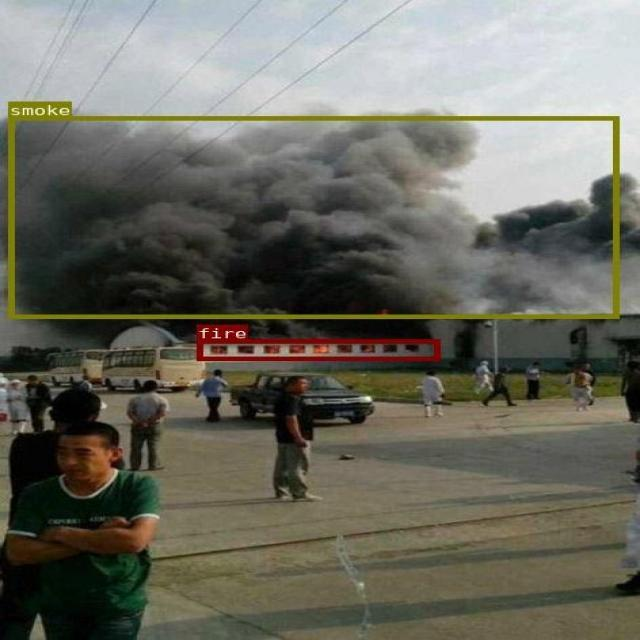fire: (196, 339, 438, 360)
smoke: (8, 116, 617, 318)
